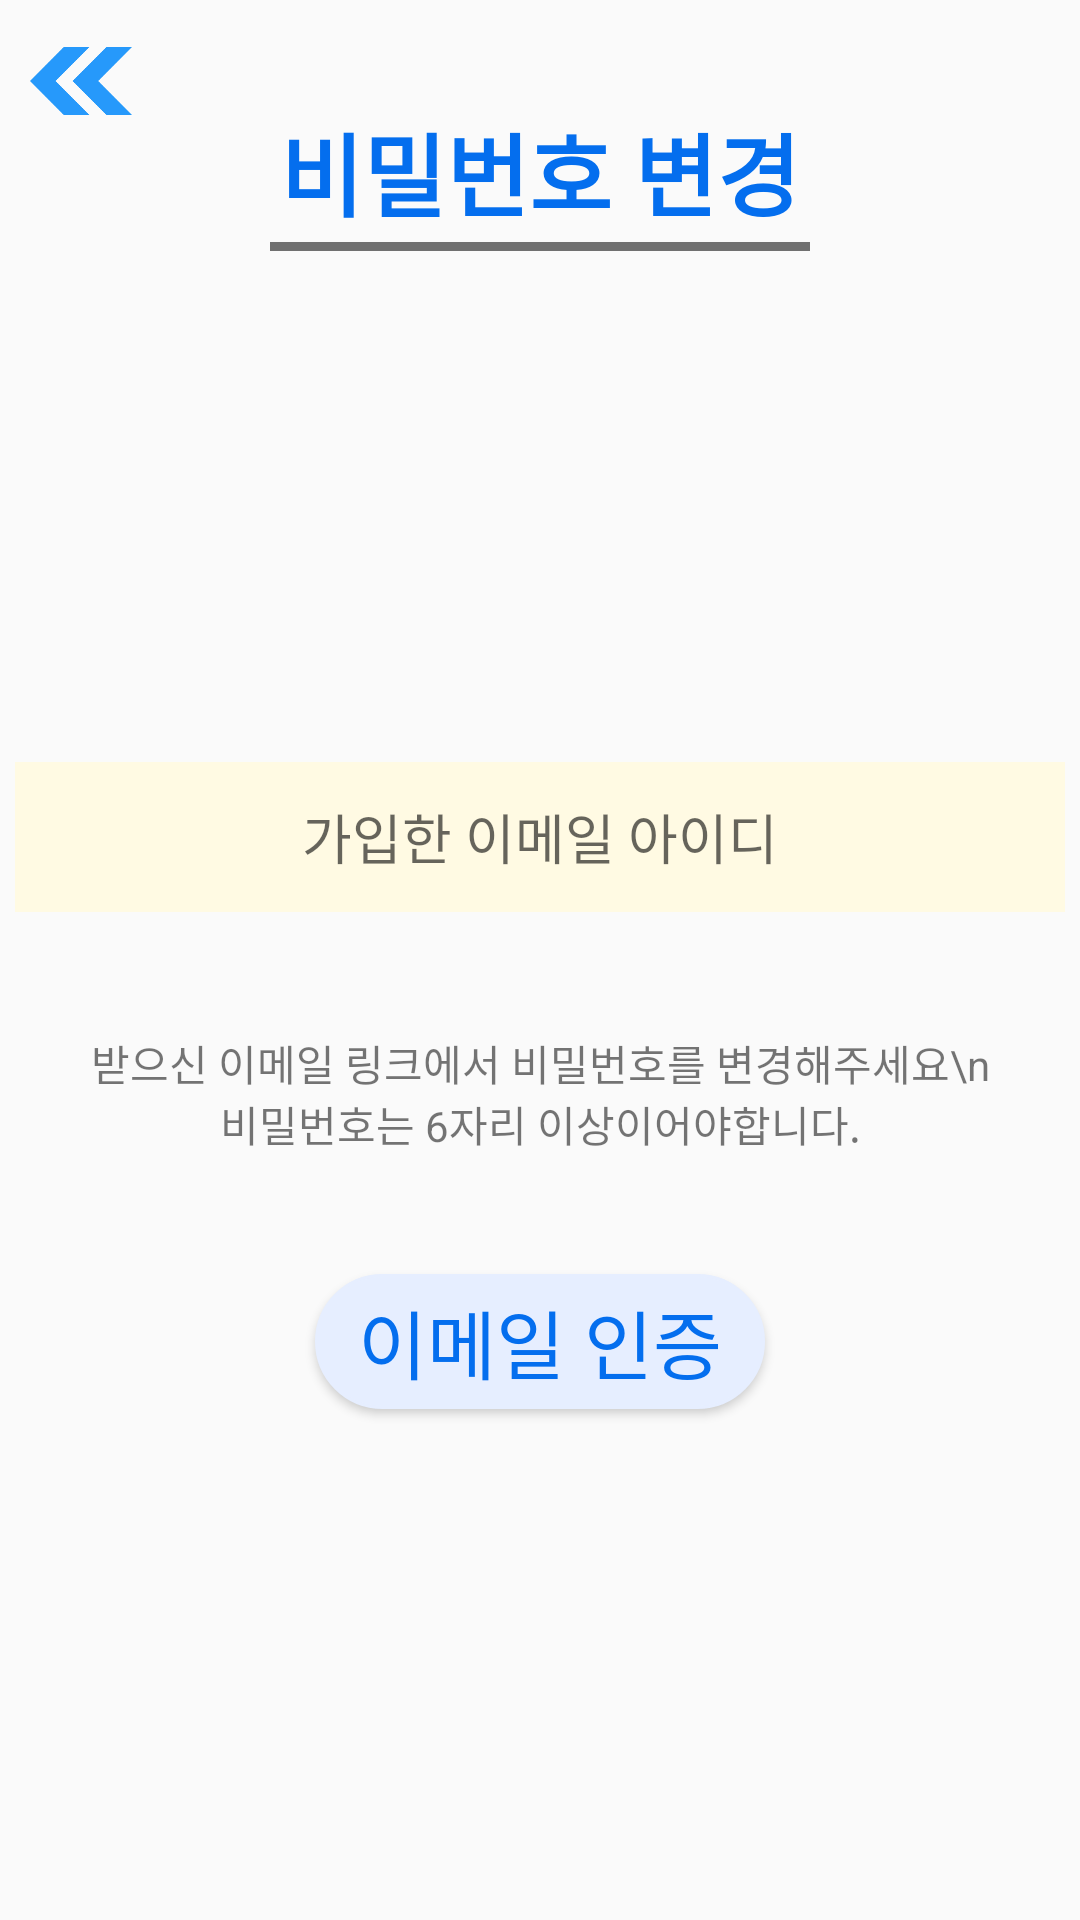

Icons on this 1080×1920 Android screen, each with its box as (x1,y1,x2,y2):
double arrow: (30,47,132,115)
